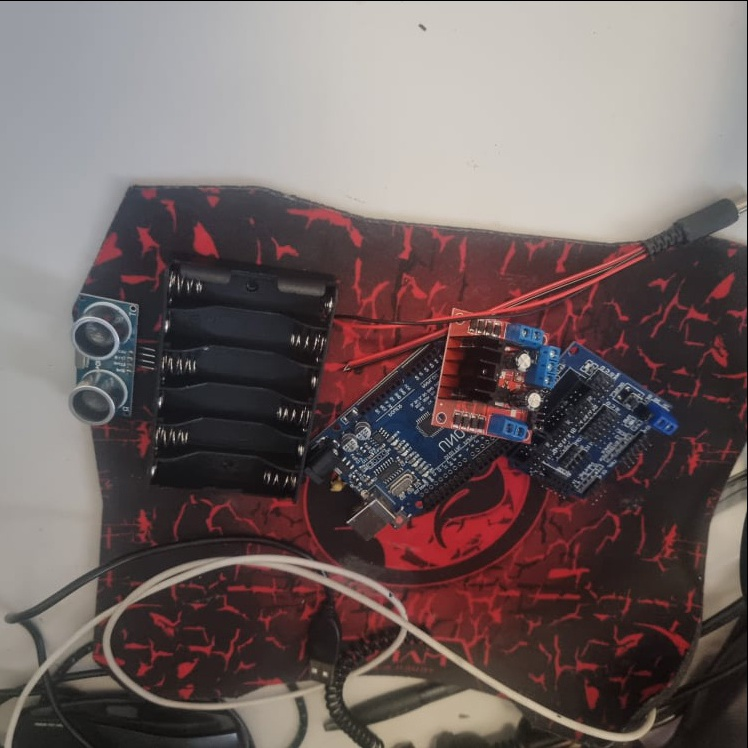5V EXPANSION: (512, 340, 678, 515)
BATTERY BOX: (143, 255, 338, 501)
MOTOR: (439, 307, 563, 443)
SENSOR: (65, 287, 139, 425)
UNO R3: (304, 348, 483, 543)
